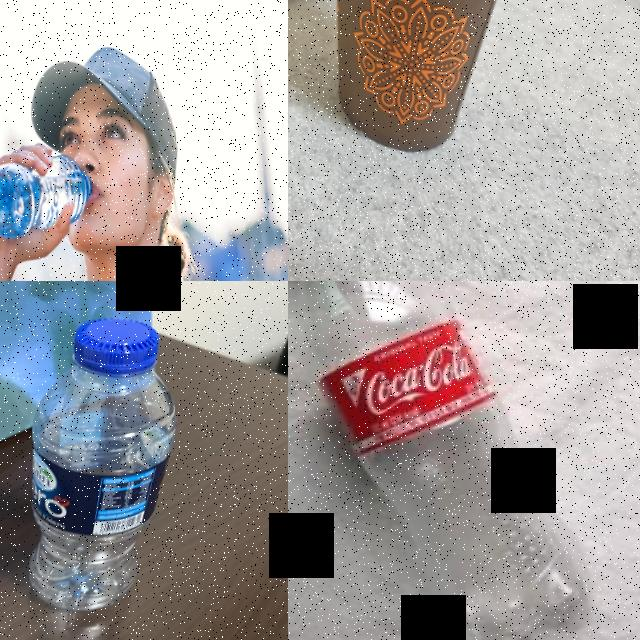bottle: (288, 281, 596, 640), (0, 309, 199, 619), (0, 148, 97, 245)
cup: (313, 0, 556, 160)
